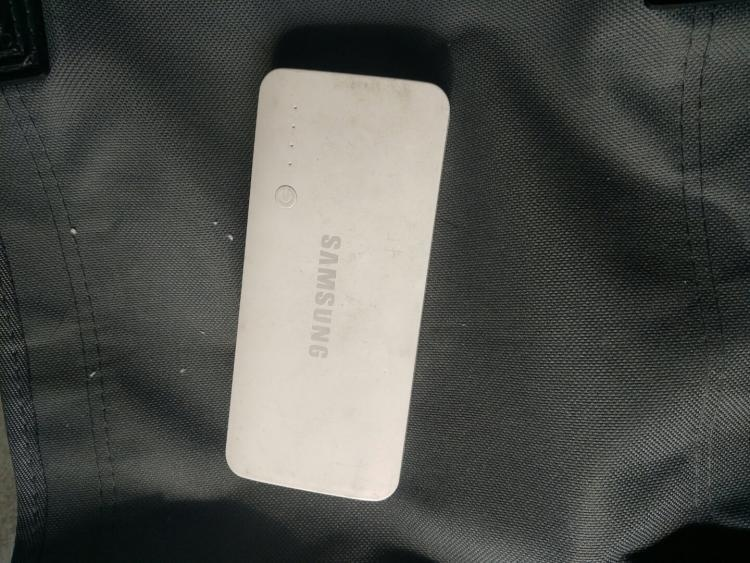power bank: (221, 61, 454, 507)
